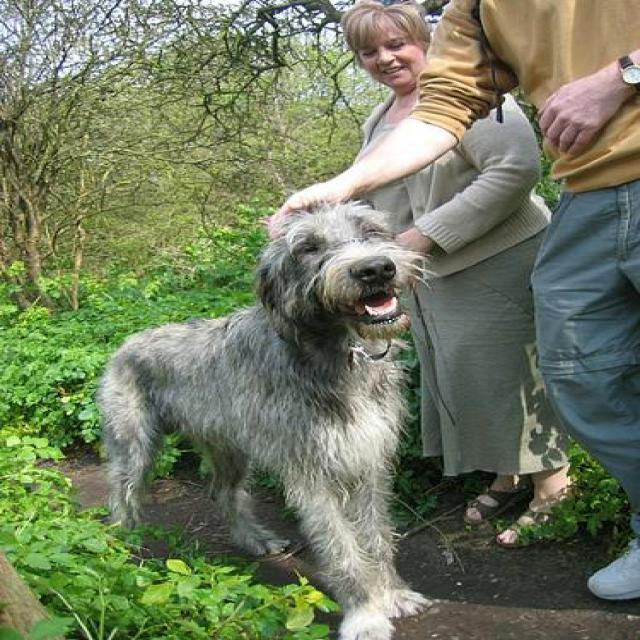irish_wolfhound: (98, 195, 440, 638)
